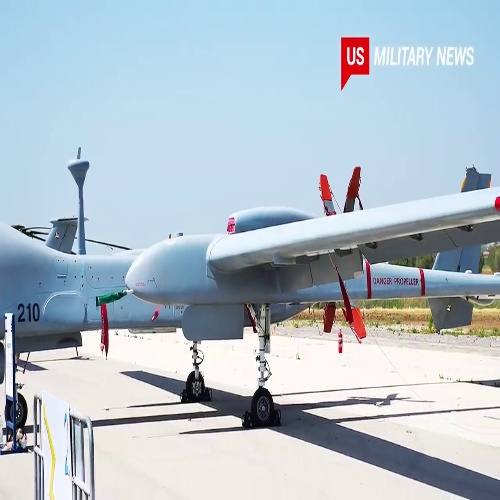uav: (119, 185, 500, 429)
